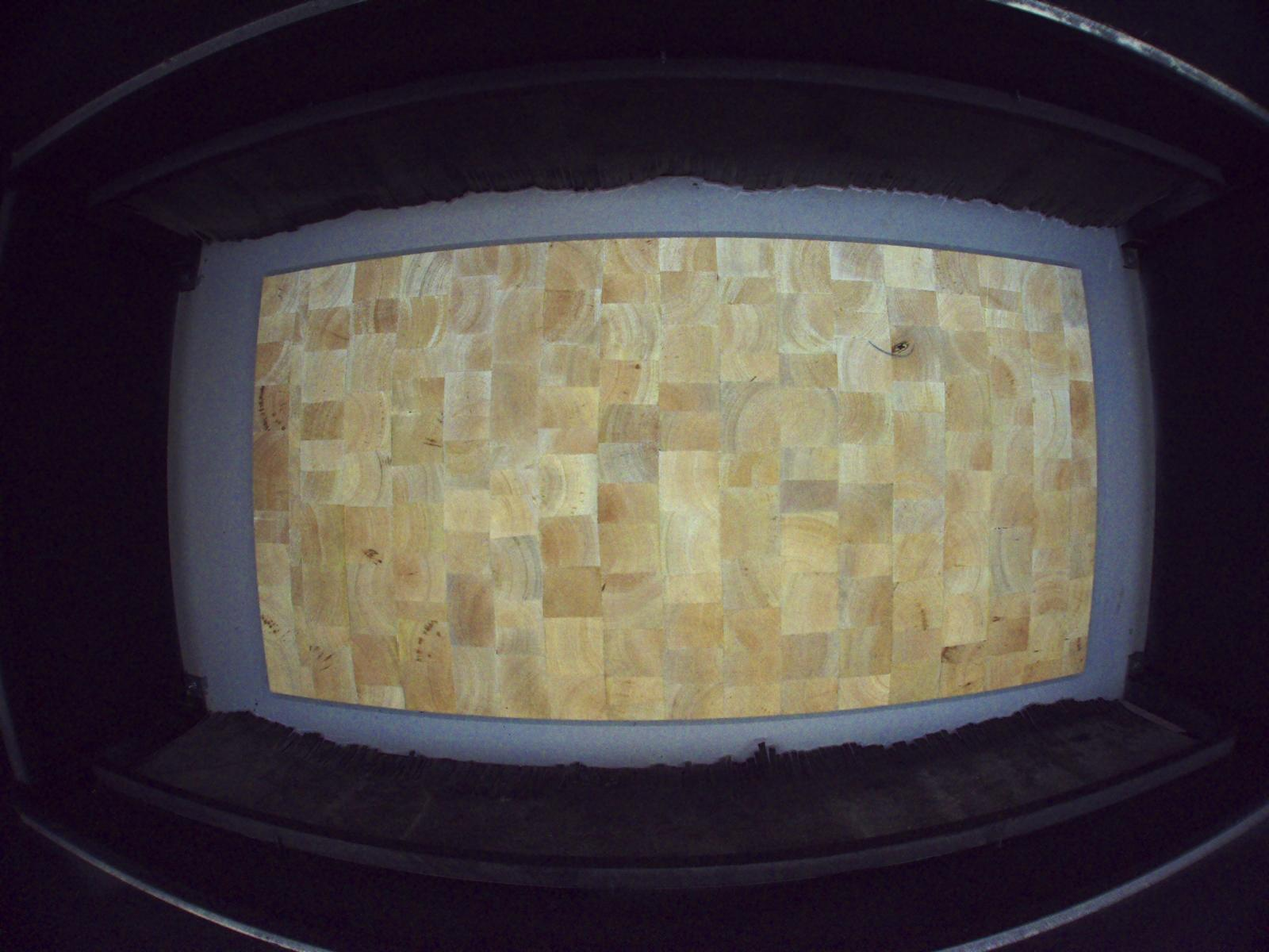nudillo: (890, 339, 911, 356)
